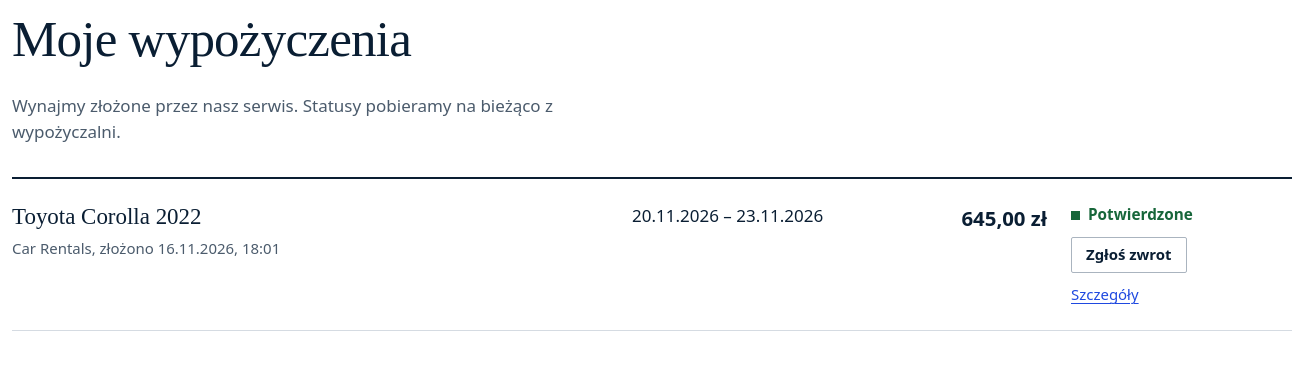
Test: Moje wypożyczenia › zgłoszenie zwrotu wysyła POST i zmienia status na liście
Click the button with aria-label "Zgłoś zwrot: Toyota Corolla 2022": (1129,255) x1=1071 y1=237 x2=1187 y2=273
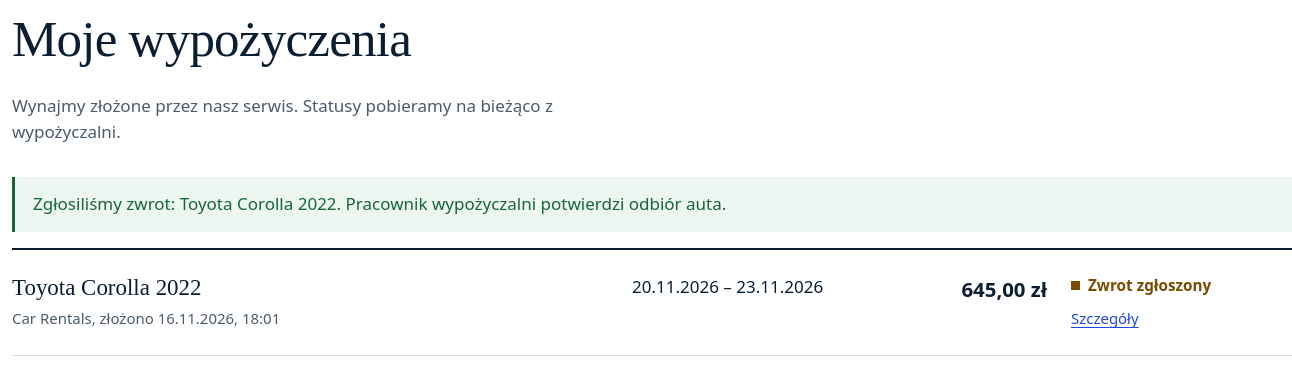
Check: the text "Zwrot zgłoszony" is shown, box x1=1071 y1=274 x2=1211 y2=297
Check: the text "Pracownik wypożyczalni potwierdzi odbiór auta" is shown, box x1=33 y1=192 x2=726 y2=215
Check: the button "Zgłoś zwrot" is gone
